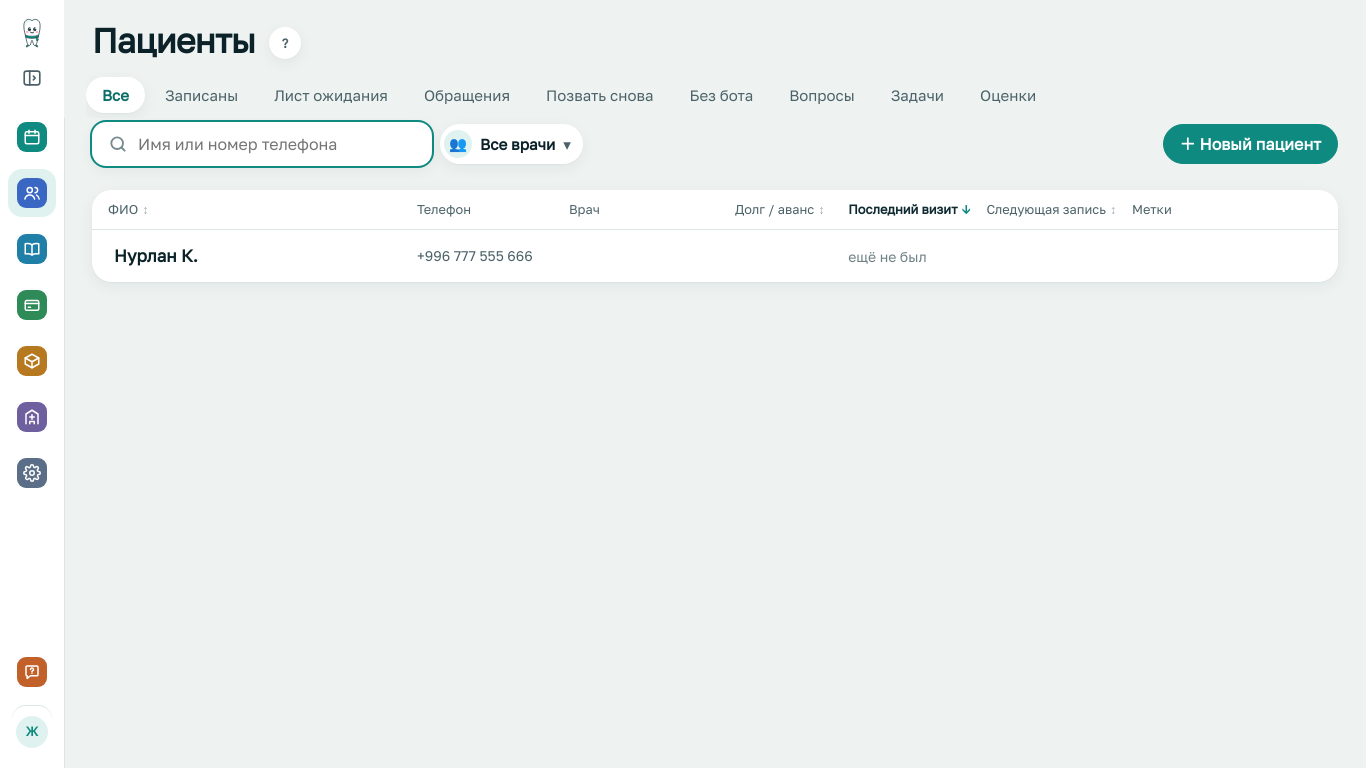
Scenario: регистратура: в карточке пациента нет вкладки «Медкарта» — сервер её не откроет
This screenshot has width=1366, height=768.
Click the button "Нурлан К.".
click(156, 256)  # box [114, 243, 198, 269]
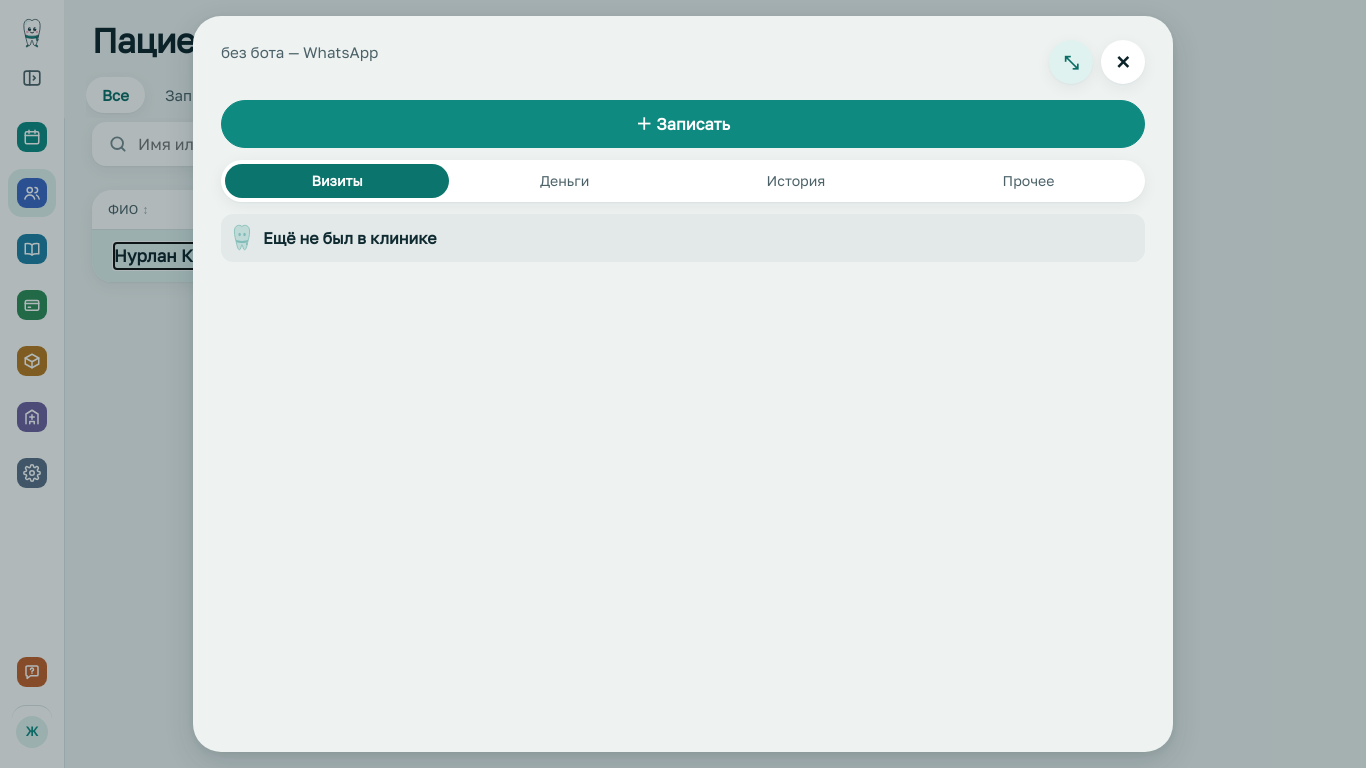
Expected: the button "＋ Записать" is shown, [221, 100, 1145, 148]
